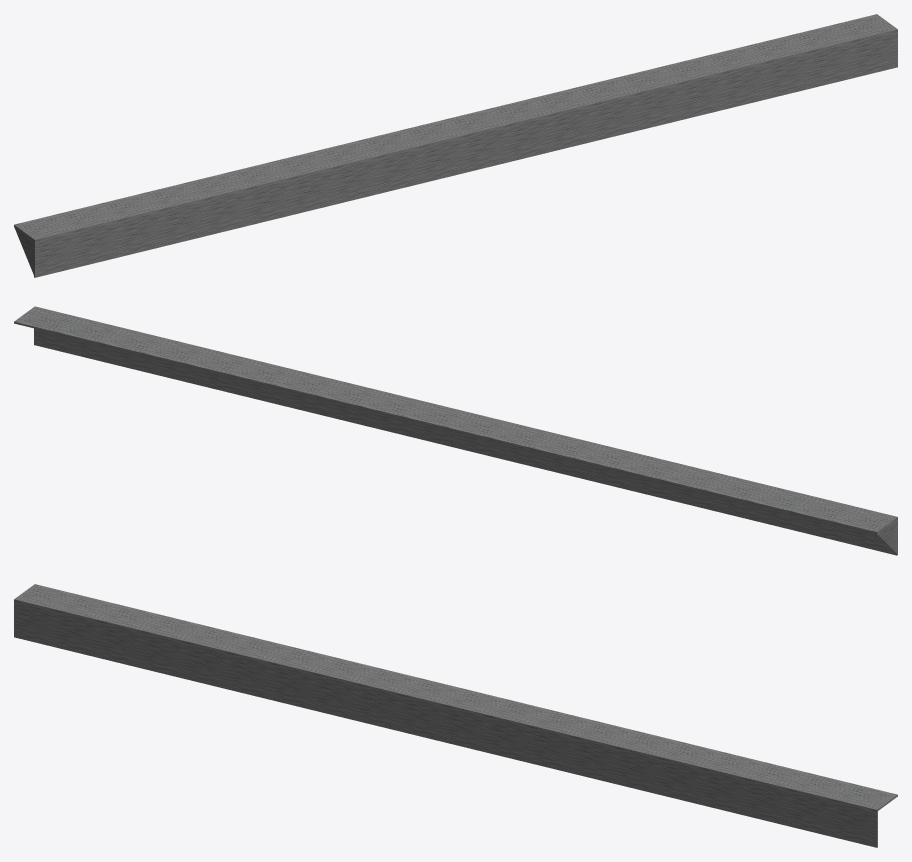
File: corniere-droite-40x40-1ml.glb
3 renders of one model, top to bottom at view 1: azimuth 30°, elevation 25°; view 2: azimuth 150°, elevation 25°; view 3: azimuth 330°, elevation 25°, orthographic.
Parts seen in each view (by area): view 1: corniere-droite; view 2: corniere-droite; view 3: corniere-droite.
Boxes of the visible parts, x1,y1,x2,y2 form: corniere-droite: [14, 14, 897, 277]; corniere-droite: [14, 306, 897, 555]; corniere-droite: [14, 584, 897, 847].
Bounding box in the file's own units: 1 × 0.042 × 0.042.
Materials: 1 (1 with a texture image).
